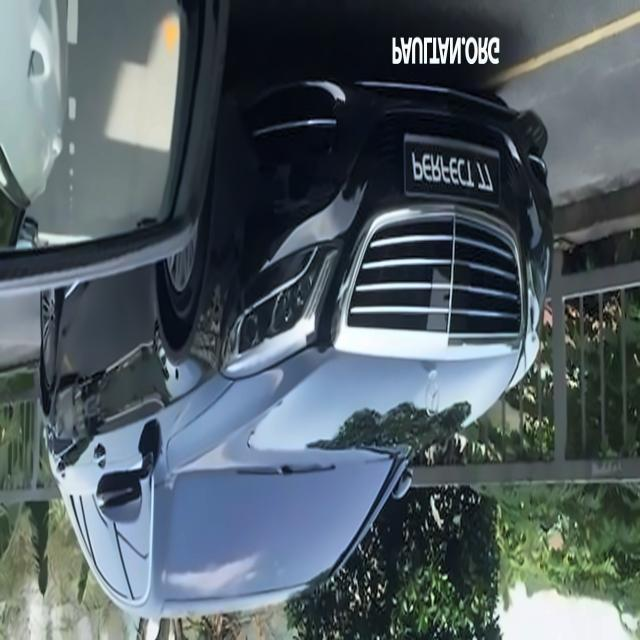car-plate: (403, 130, 503, 210)
